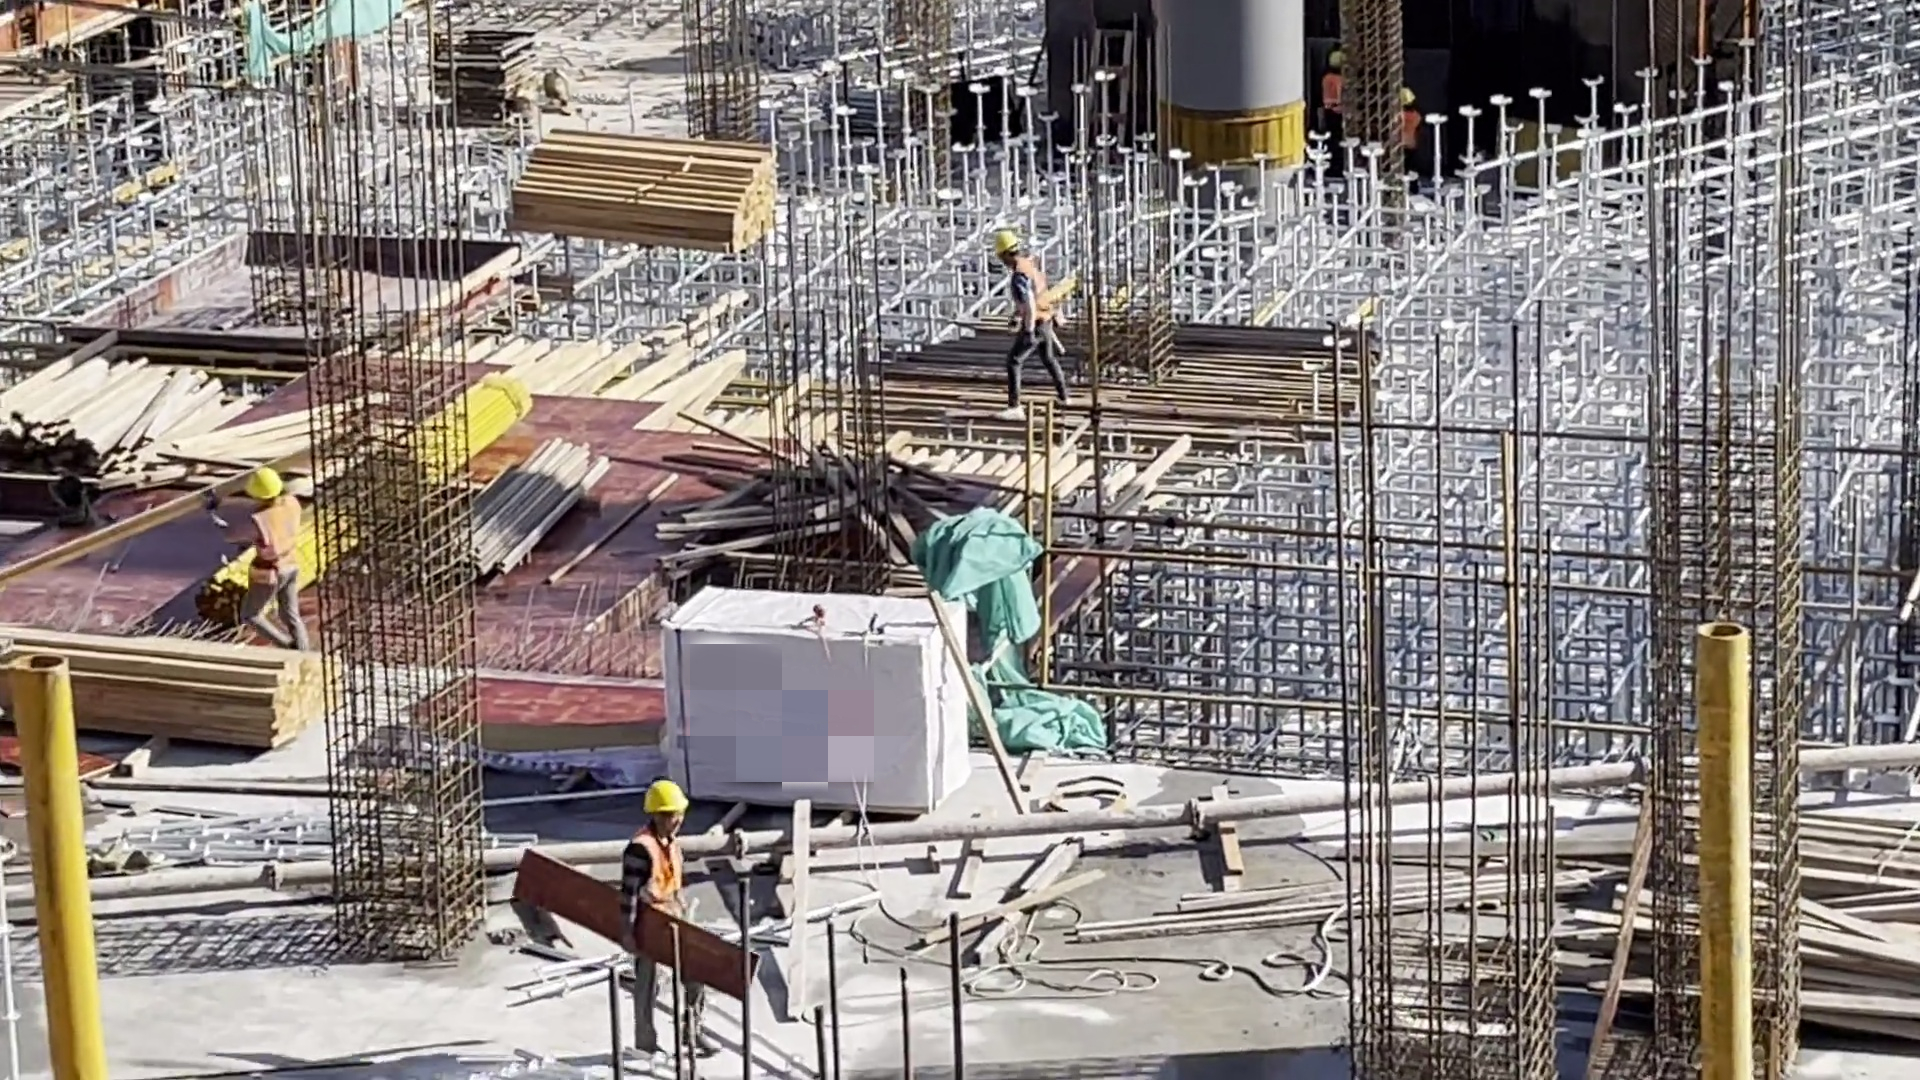helmet: (643, 781, 689, 813), (249, 466, 281, 499), (993, 233, 1017, 250)
person: (621, 770, 700, 1057), (983, 223, 1073, 427), (232, 461, 304, 657)
rebar: (886, 308, 1370, 449)
vest: (630, 832, 688, 915), (246, 503, 305, 584), (1013, 261, 1053, 327)
wood: (504, 118, 792, 250), (5, 637, 344, 747), (1, 358, 229, 506), (481, 451, 652, 584)
